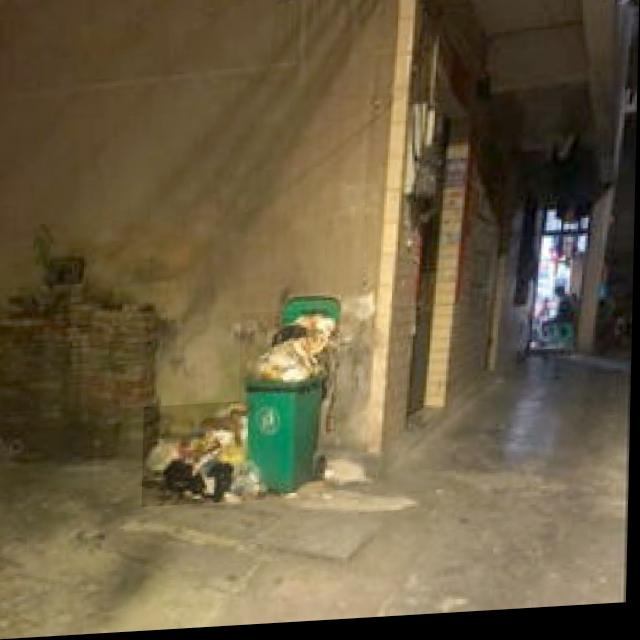garbage: (144, 403, 270, 509)
overflow: (239, 312, 340, 497)
